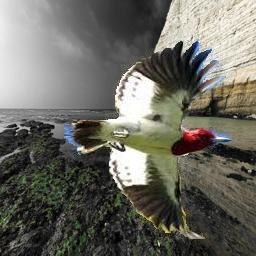Woodpecker: (64, 40, 232, 239)
